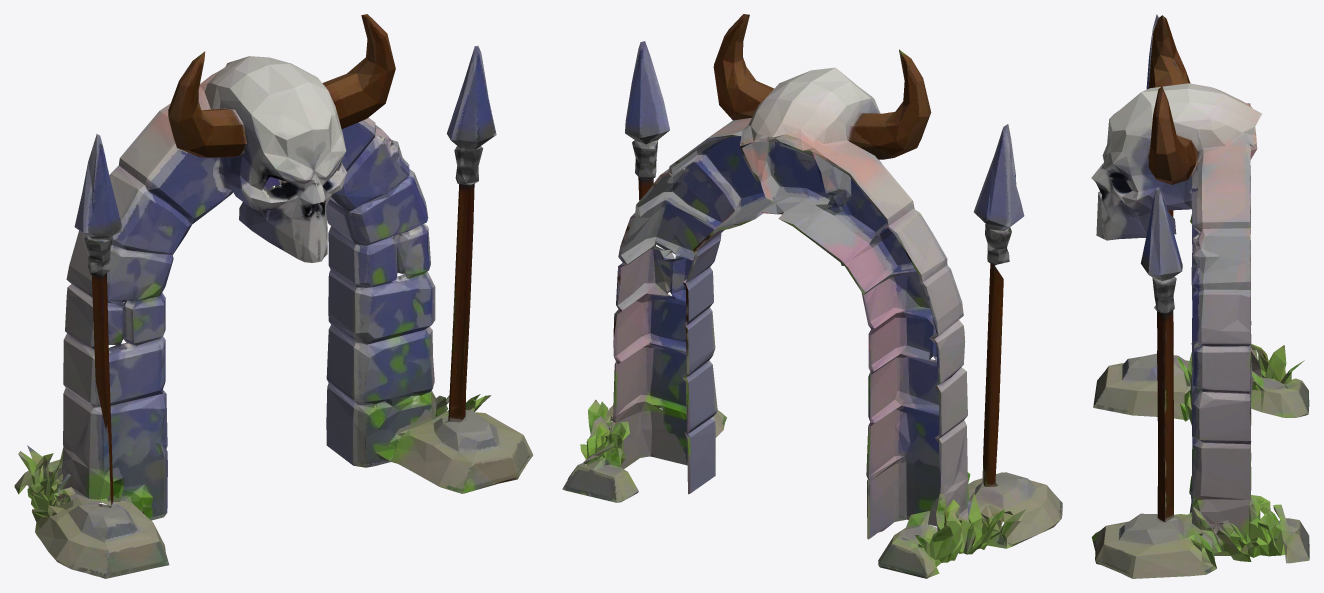
File: skull_archway.glb
The picture shows the model from 3 angles, left to right: view 1: azimuth 30°, elevation 25°; view 2: azimuth 150°, elevation 25°; view 3: azimuth 270°, elevation 25°; orthographic projection. The views are drawn at different scales.
Bounding box in the file's own units: 1.98 × 1.92 × 0.8798.
1 material, 1 textured.
